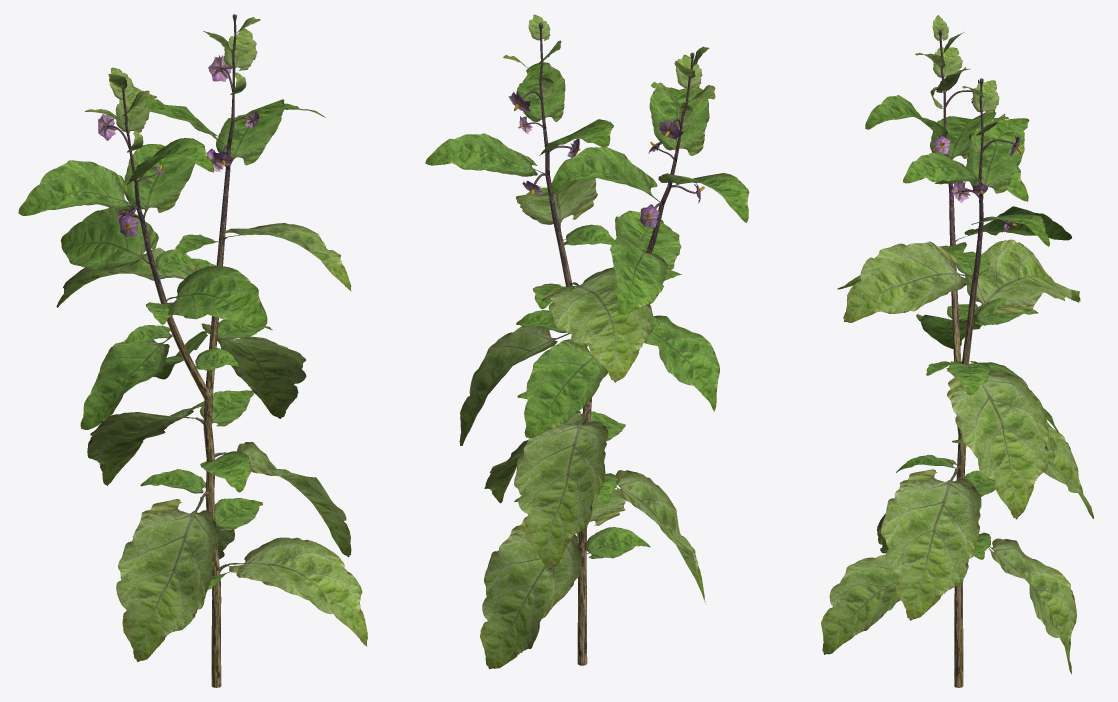
3 renders of one model, left to right at view 1: azimuth 30°, elevation 25°; view 2: azimuth 150°, elevation 25°; view 3: azimuth 270°, elevation 25°, orthographic. The views are drawn at different scales.
Visible parts, largest first — view 1: VG19_4; view 2: VG19_4; view 3: VG19_4.
Boxes of the visible parts, x1,y1,x2,y2 form: VG19_4: (18,14,367,687); VG19_4: (425,14,749,669); VG19_4: (821,15,1093,687).
Size of the model in its own units: 0.3386 by 0.6812 by 0.3014.
8 materials, 8 textured.
